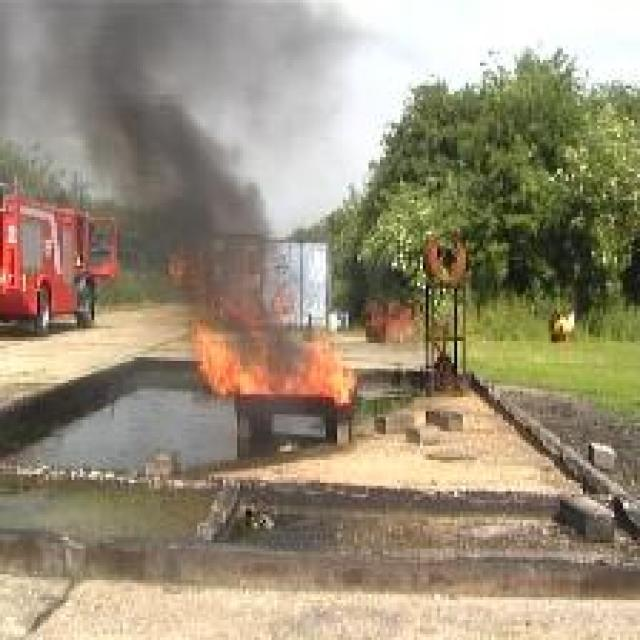Fire: (192, 322, 358, 407)
